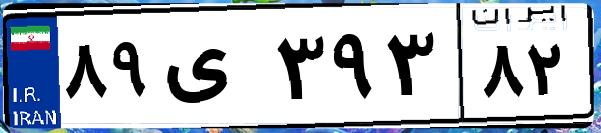2: (525, 38, 570, 115)
3: (270, 28, 330, 110), (385, 28, 445, 110)
8: (57, 26, 110, 100), (475, 38, 525, 113)
9: (330, 28, 385, 110), (110, 28, 158, 98)
ی: (158, 20, 270, 120)
